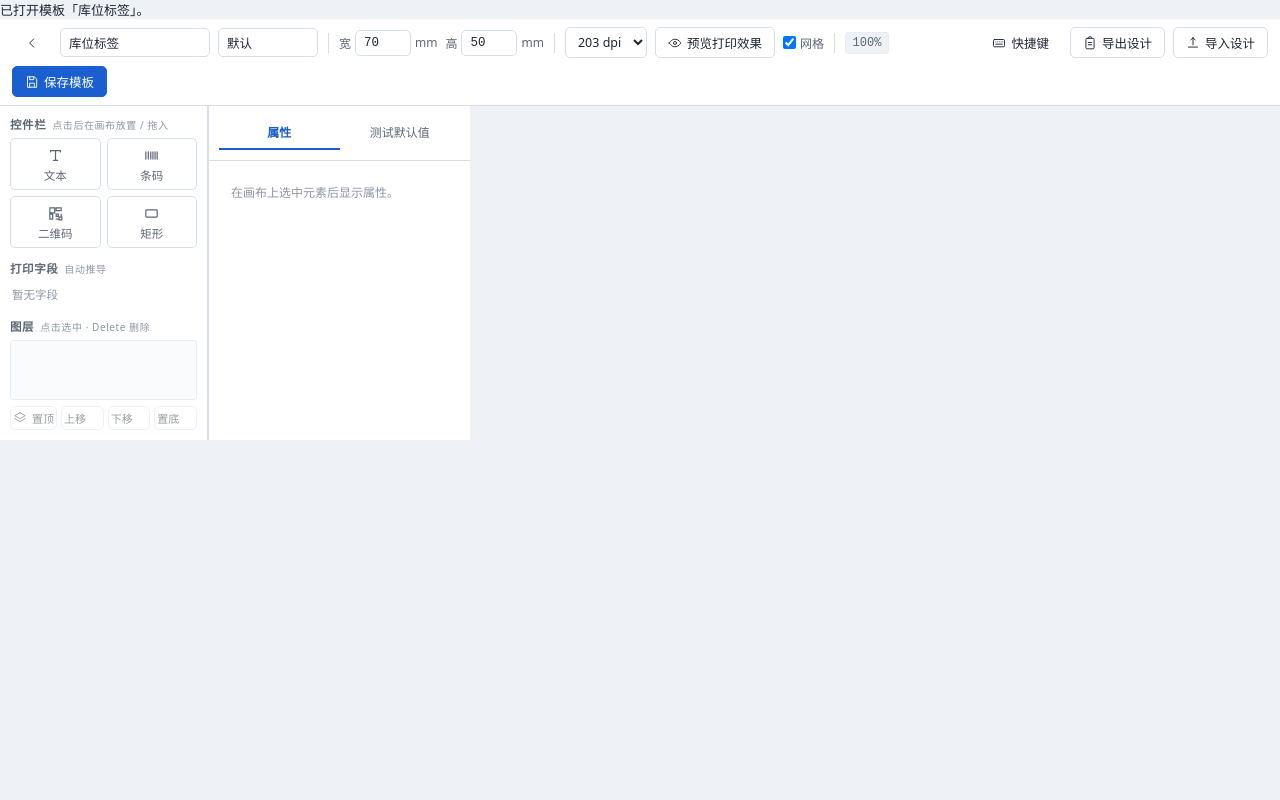
Scenario: 未保存离开保护三选（迭代 92 F-02，决议 a：dirty = 历史栈有已提交更改） › AC-01「保存并离开」：走既有保存链路，成功后离开（保存成功自然复位 dirty——组件随离开卸载）
Expected: the field showing "库位标签" is shown, x1=60 y1=28 x2=210 y2=57
Replace the text in the number field showing "70" with "80" at (383, 42), box x1=355 y1=30 x2=411 y2=56
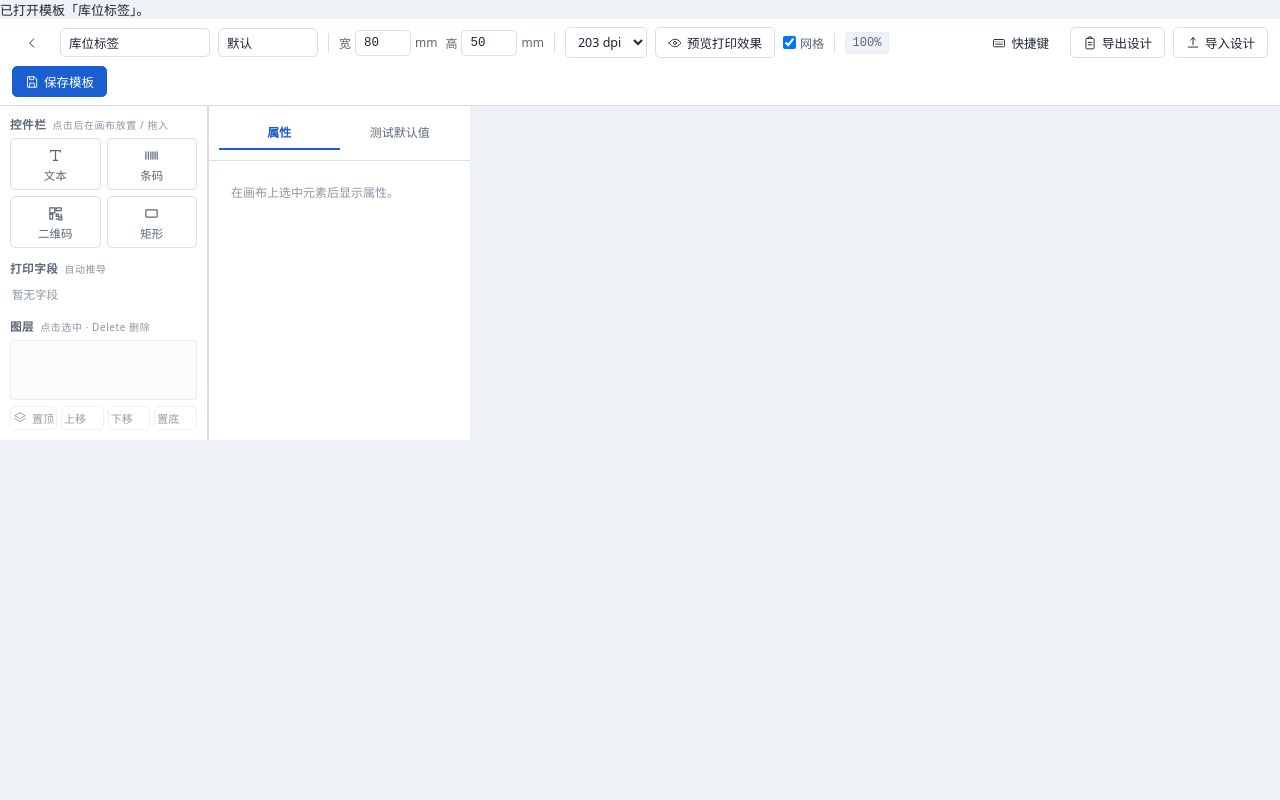
Click the button titled "返回工作台" at (32, 42), box x1=12 y1=30 x2=52 y2=56
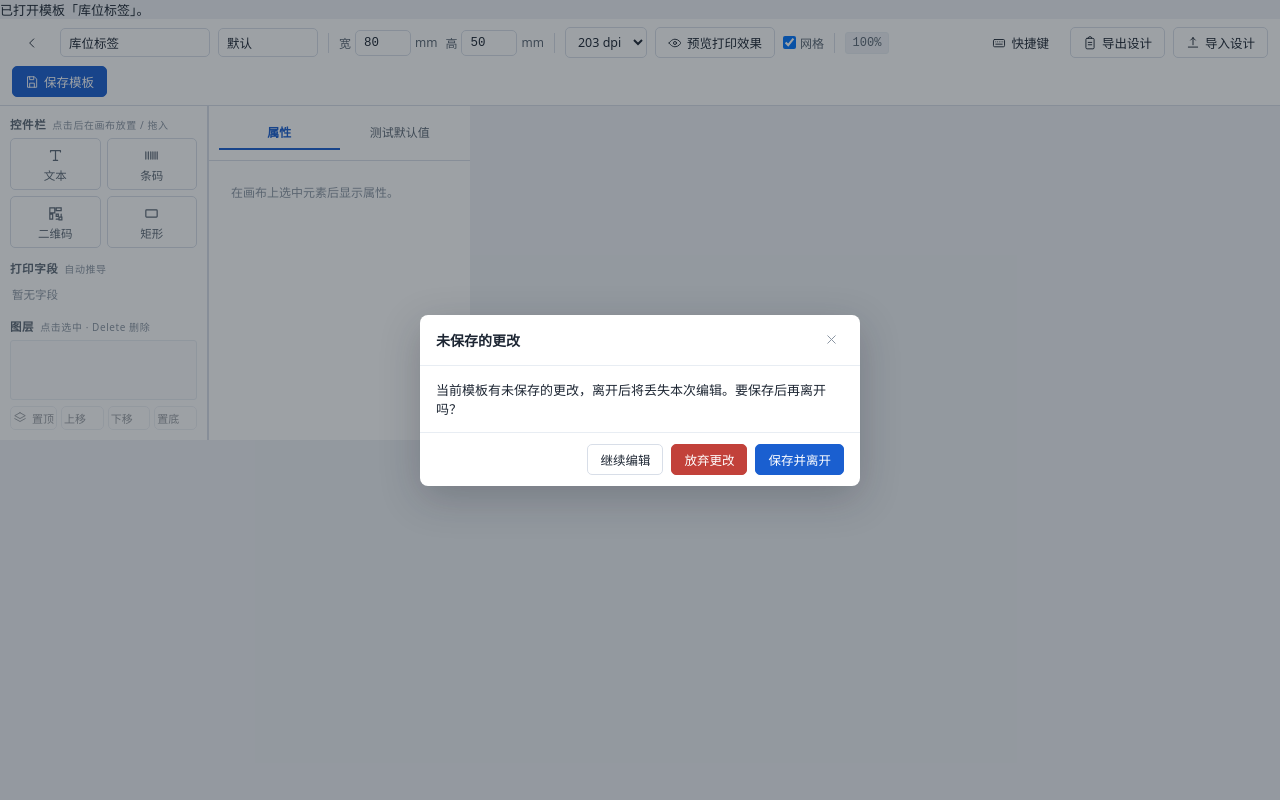
Result: the text "未保存的更改" is shown at x1=436 y1=330 x2=520 y2=350
Click the button "保存并离开" at (800, 459), box x1=756 y1=444 x2=844 y2=474
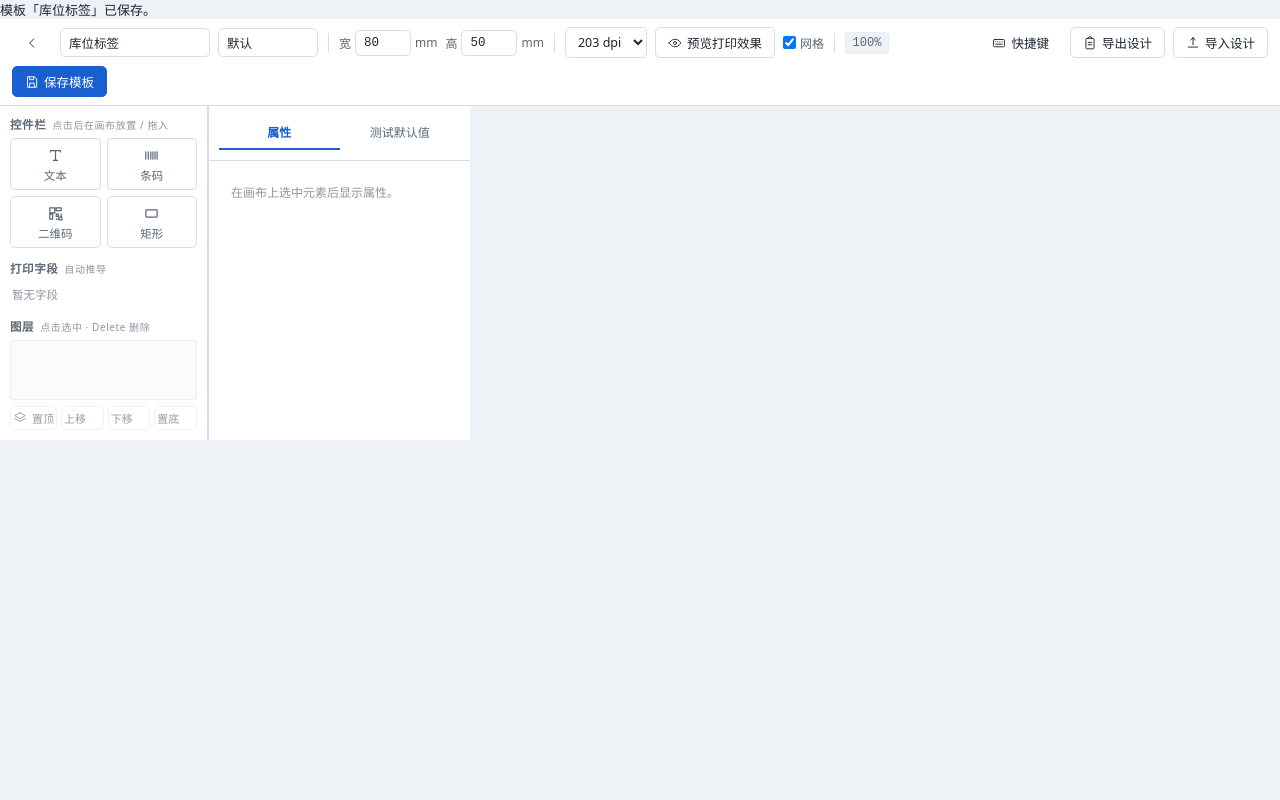
Result: the text with test id "status-msg" shows "模板「库位标签」已保存" at x1=0 y1=1 x2=156 y2=19
